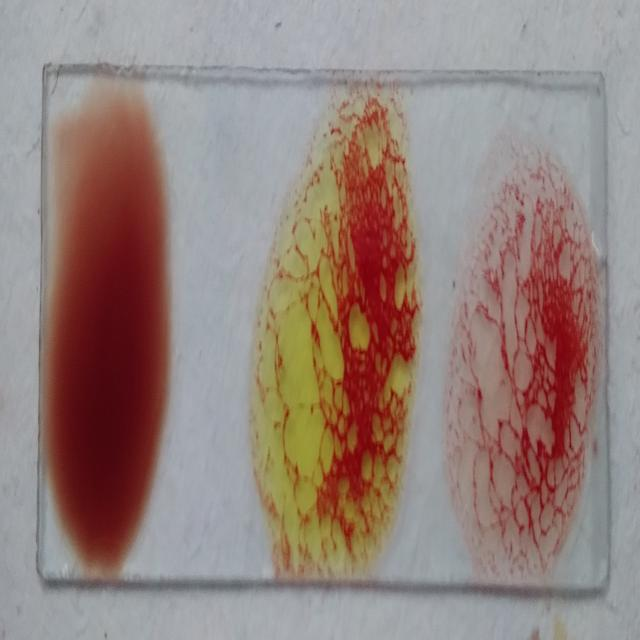B: (259, 89, 415, 559)
D: (448, 136, 598, 584)
